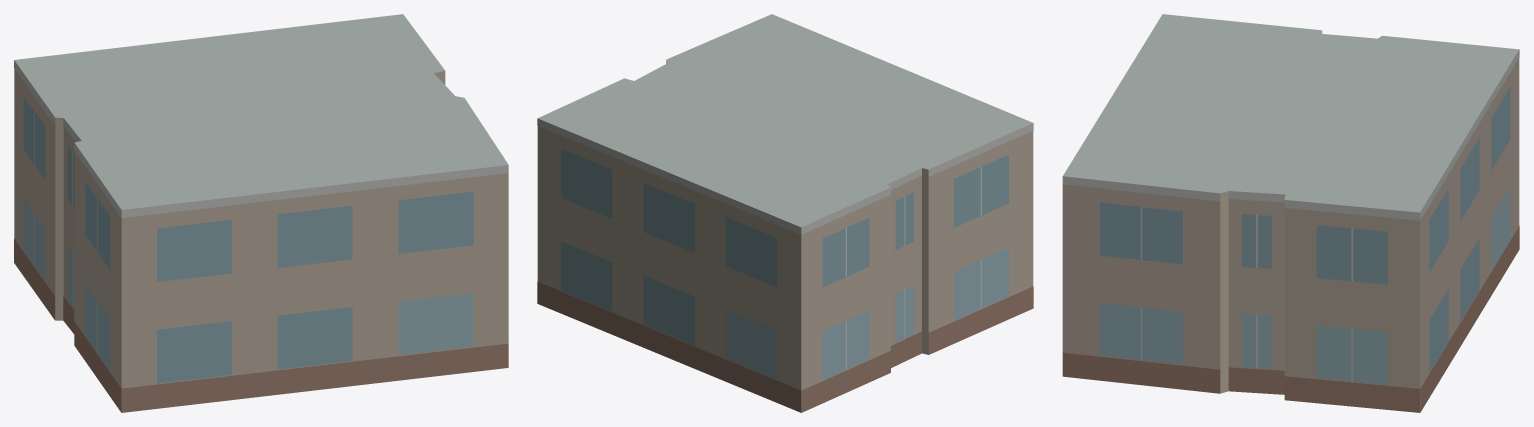
Rendered from survey-upis-33014353.glb.
3 renders of one model, left to right at view 1: azimuth 30°, elevation 25°; view 2: azimuth 150°, elevation 25°; view 3: azimuth 270°, elevation 25°, orthographic. The views are drawn at different scales.
Visible parts, largest first — view 1: survey-upis-33014353.tmp; view 2: survey-upis-33014353.tmp; view 3: survey-upis-33014353.tmp.
Boxes of the visible parts, left/top/right/bottom form: survey-upis-33014353.tmp: left=14, top=14, right=508, bottom=412; survey-upis-33014353.tmp: left=537, top=14, right=1033, bottom=412; survey-upis-33014353.tmp: left=1062, top=14, right=1519, bottom=412.
Bounding box in the file's own units: 12.98 × 6.1 × 12.62.
